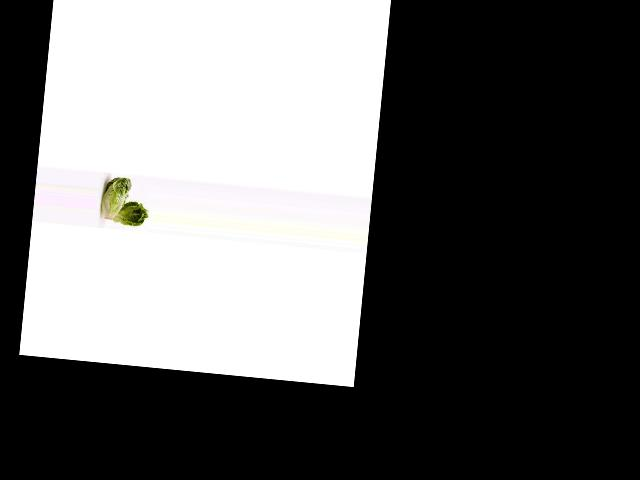lettuce: (98, 172, 135, 224)
